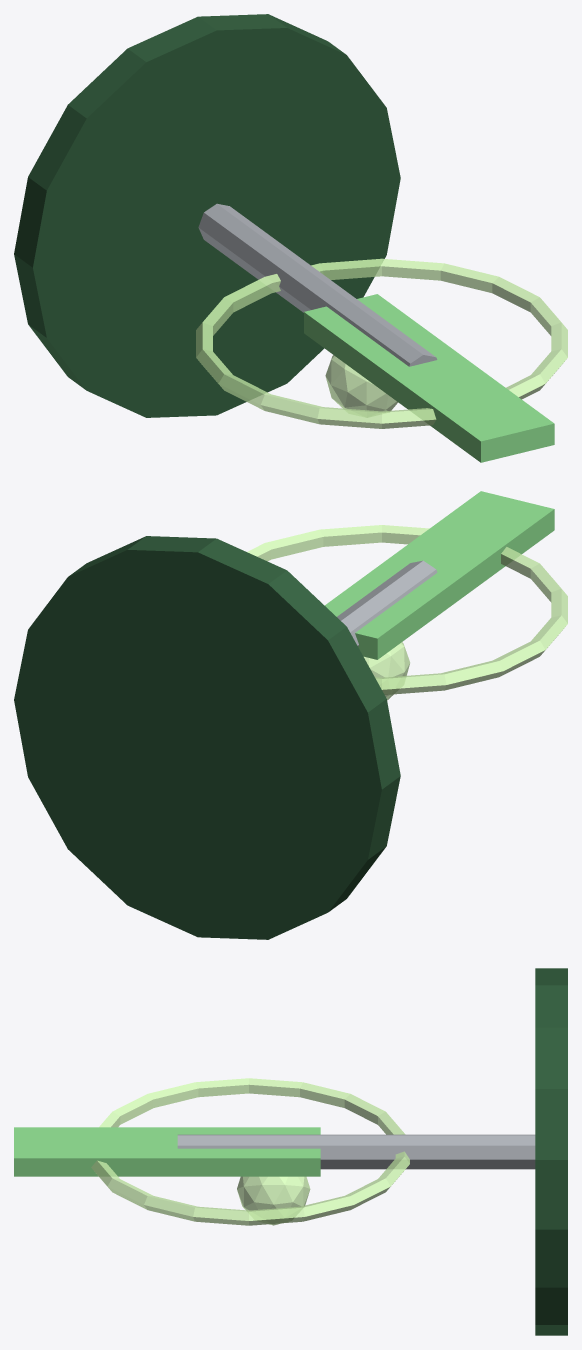
File: 05_item_weapon_finish_overlay_5.glb
The picture shows the model from 3 angles, top to bottom: view 1: azimuth 30°, elevation 25°; view 2: azimuth 150°, elevation 25°; view 3: azimuth 270°, elevation 25°; orthographic projection. The views are drawn at different scales.
Parts seen in each view (by area): view 1: display_base, finish_blade_preview, finish_orbit, weapon_handle_preview, rarity_gem; view 2: display_base, finish_blade_preview, finish_orbit, weapon_handle_preview, rarity_gem; view 3: finish_blade_preview, display_base, finish_orbit, weapon_handle_preview, rarity_gem.
Part boxes in pixels (left/top/right/bottom): display_base: left=14, top=14, right=400, bottom=417; finish_blade_preview: left=304, top=294, right=554, bottom=462; finish_orbit: left=196, top=258, right=567, bottom=428; weapon_handle_preview: left=198, top=203, right=437, bottom=366; rarity_gem: left=325, top=355, right=397, bottom=411; display_base: left=14, top=536, right=400, bottom=939; finish_blade_preview: left=325, top=491, right=554, bottom=659; finish_orbit: left=247, top=525, right=567, bottom=694; weapon_handle_preview: left=337, top=560, right=437, bottom=646; rarity_gem: left=364, top=642, right=410, bottom=700; finish_blade_preview: left=14, top=1127, right=320, bottom=1176; display_base: left=535, top=968, right=567, bottom=1335; finish_orbit: left=91, top=1078, right=409, bottom=1225; weapon_handle_preview: left=177, top=1134, right=535, bottom=1169; rarity_gem: left=237, top=1176, right=310, bottom=1225.
Size of the model in its own units: 0.9 by 0.9 by 1.36.
